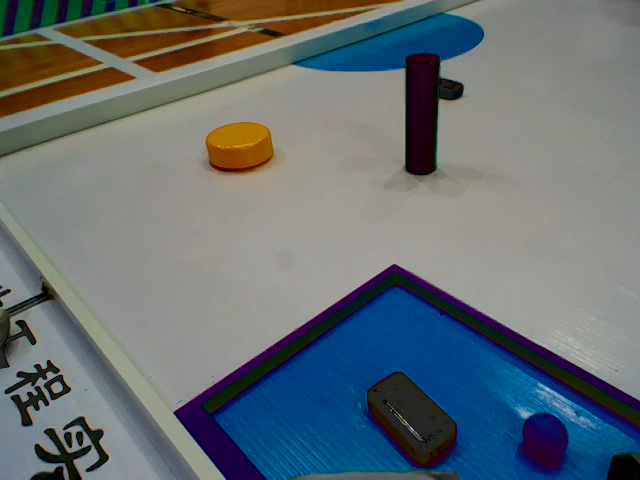black: (364, 372, 455, 466), (419, 75, 465, 104)
blue: (524, 408, 570, 463)
kuang: (168, 256, 640, 480)
yellow: (205, 125, 274, 169)
zhuzi: (399, 53, 443, 179)
